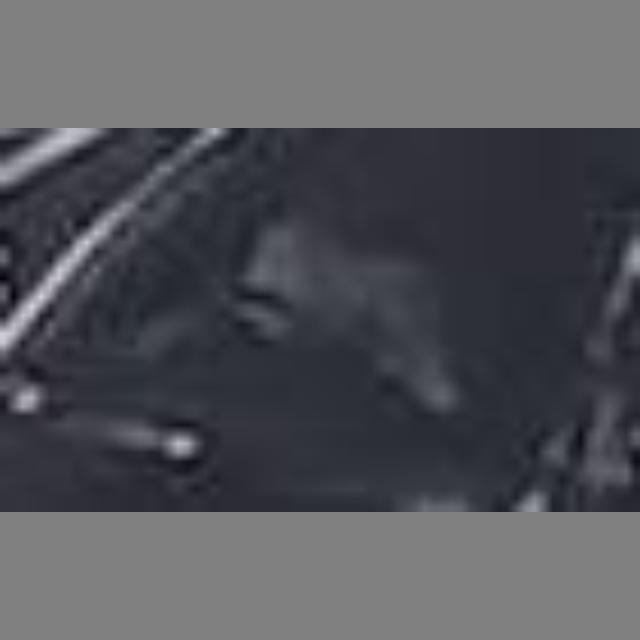tidak-pakai: (229, 183, 466, 421)
